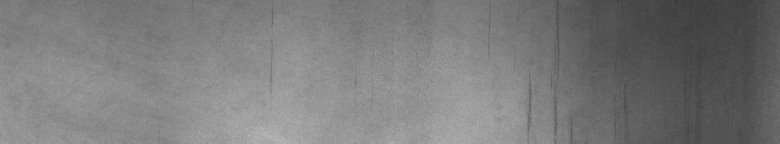ka: (524, 4, 627, 136)
